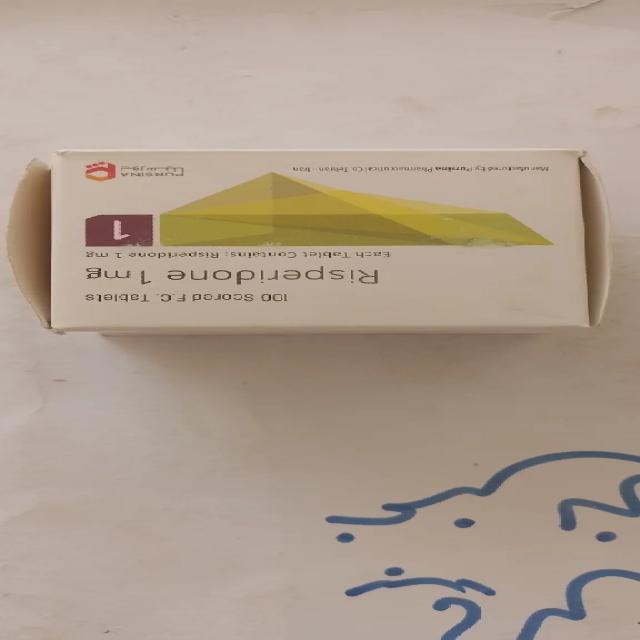drug-name: (158, 264, 384, 286)
